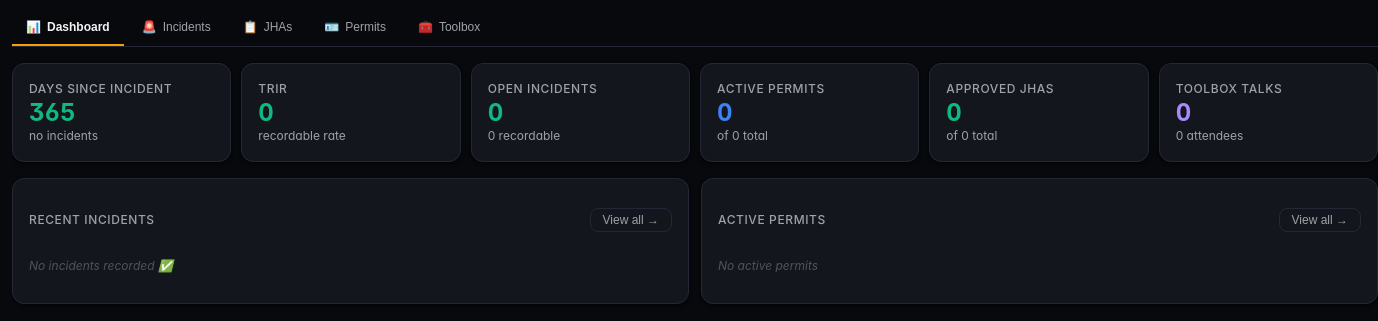
incident states are distinguishable › reports a failed request as an error
Click the tab "🚨 Incidents" at (176, 29), box [128,12,225,46]
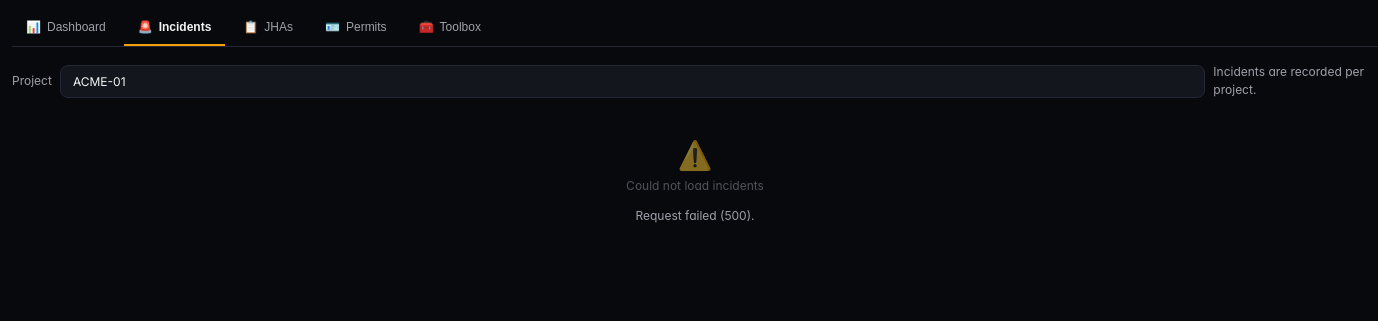
Result: the message "⚠️ Could not load incidents Request failed (500)." is shown at [626,138,764,223]
Result: the text "Could not load incidents" is shown at [626,177,764,195]
